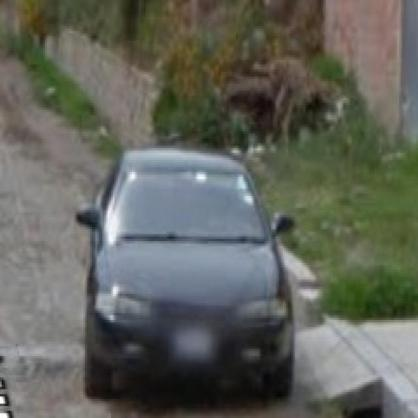car: (73, 144, 300, 410)
